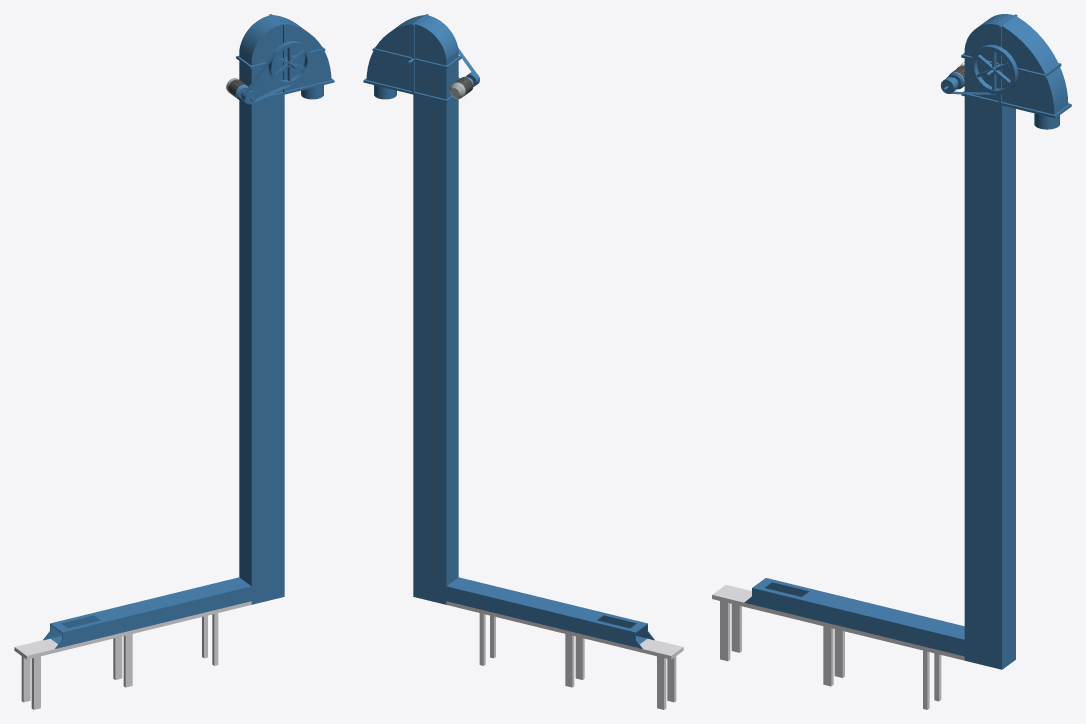
File: 提升机.glb
3 renders of one model, left to right at view 1: azimuth 30°, elevation 25°; view 2: azimuth 150°, elevation 25°; view 3: azimuth 330°, elevation 25°, orthographic. The views are drawn at different scales.
Visible parts, largest first — view 1: root; view 2: root; view 3: root.
Boxes of the visible parts, left/top/right/bottom form: root: left=14, top=14, right=334, bottom=709; root: left=363, top=14, right=683, bottom=709; root: left=712, top=14, right=1071, bottom=709.
Size of the model in its own units: 4.61 by 8.98 by 0.8.
Materials: 4 (3 with a texture image).
